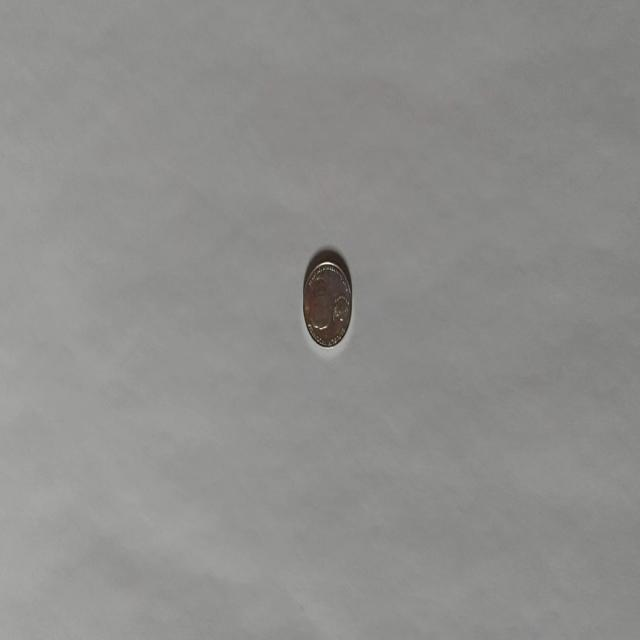seratus rupiah: (302, 258, 352, 348)
